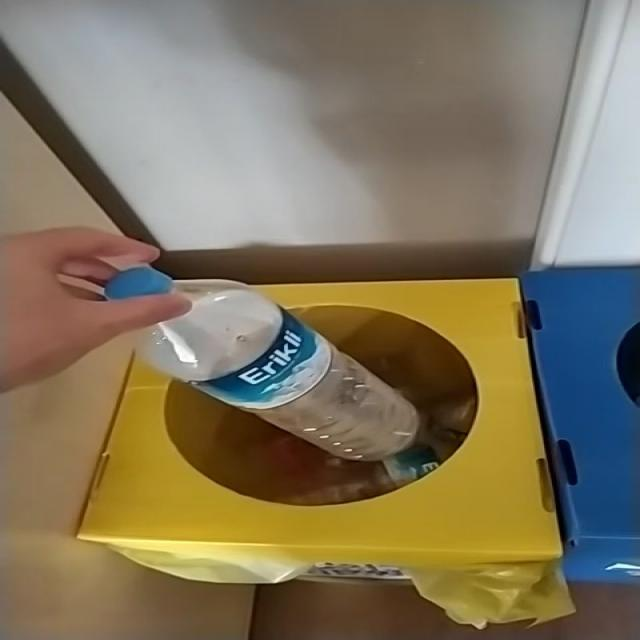Plastic: (104, 267, 421, 462)
